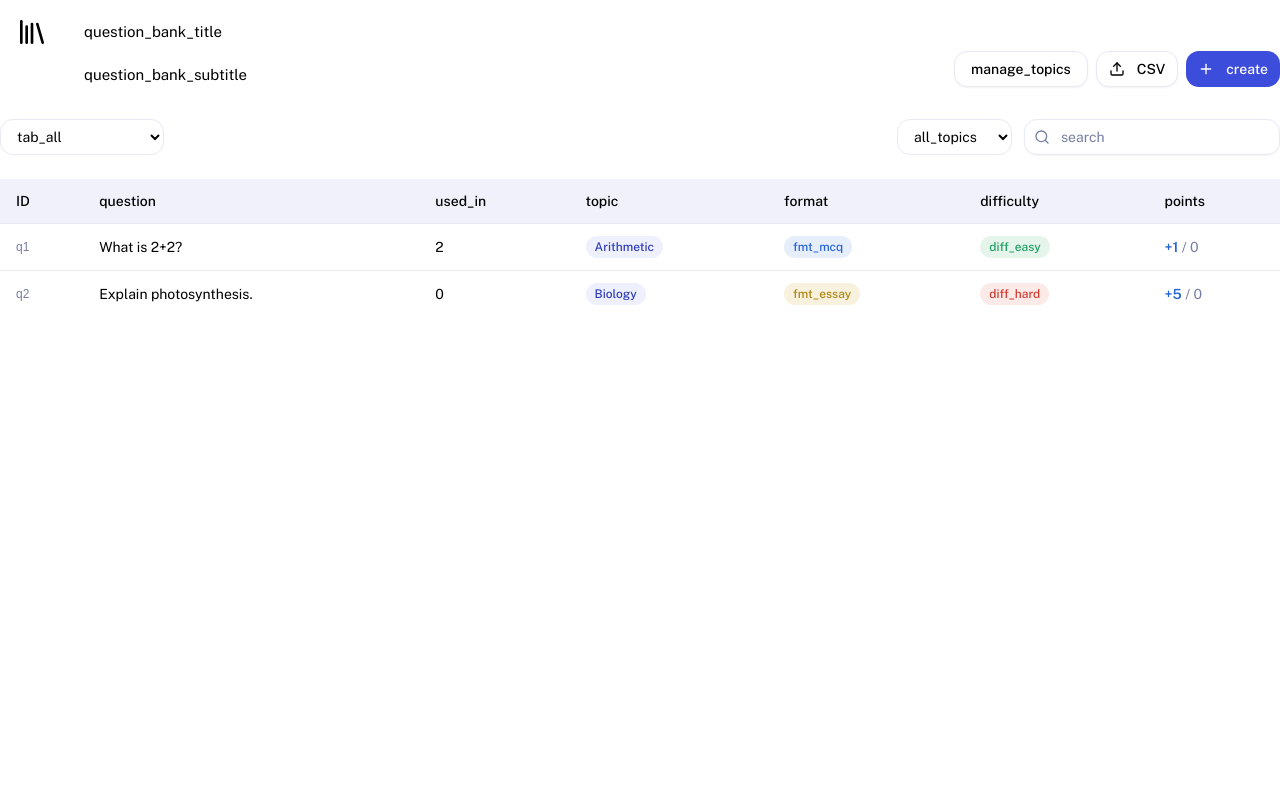
QuestionBankPage › opens read-only preview on row click
Check: the text "What is 2+2?" is shown, box [83,223,419,270]
What coordinates should you click on to do the following:
click the text "What is 2+2?"
I would click on:
 (640, 246)
Its box is [0,223,1279,270].
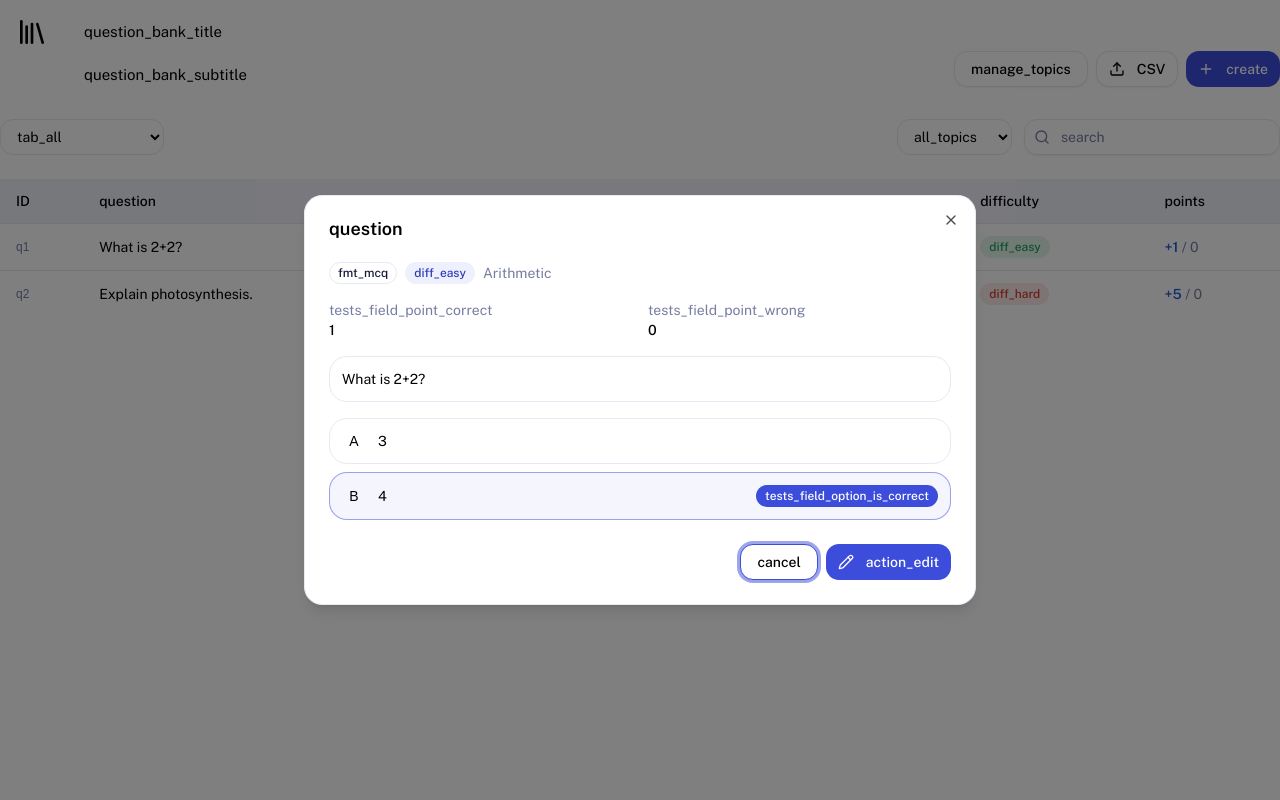
Check: the text "What is 2+2?" is shown, box [342,371,425,387]
Check: the button "action_edit" is shown, box [826,544,951,580]
